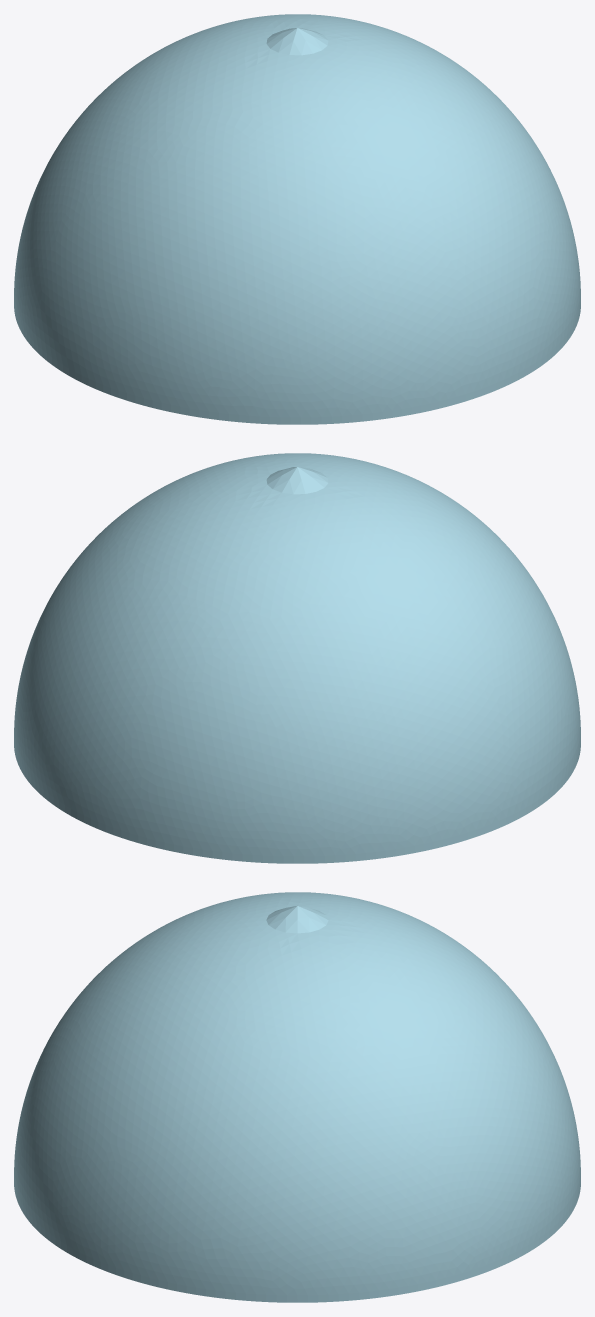
The model's file is all_default_settings.obj.
The picture shows the model from 3 angles, top to bottom: view 1: azimuth 30°, elevation 25°; view 2: azimuth 150°, elevation 25°; view 3: azimuth 270°, elevation 25°; orthographic projection.
Parts seen in each view (by area): view 1: grp1; view 2: grp1; view 3: grp1.
Boxes of the visible parts, left/top/right/bottom form: grp1: left=14, top=14, right=580, bottom=424; grp1: left=14, top=453, right=580, bottom=863; grp1: left=14, top=892, right=580, bottom=1302.
Bounding box in the file's own units: 0.14 × 0.0755 × 0.14.
